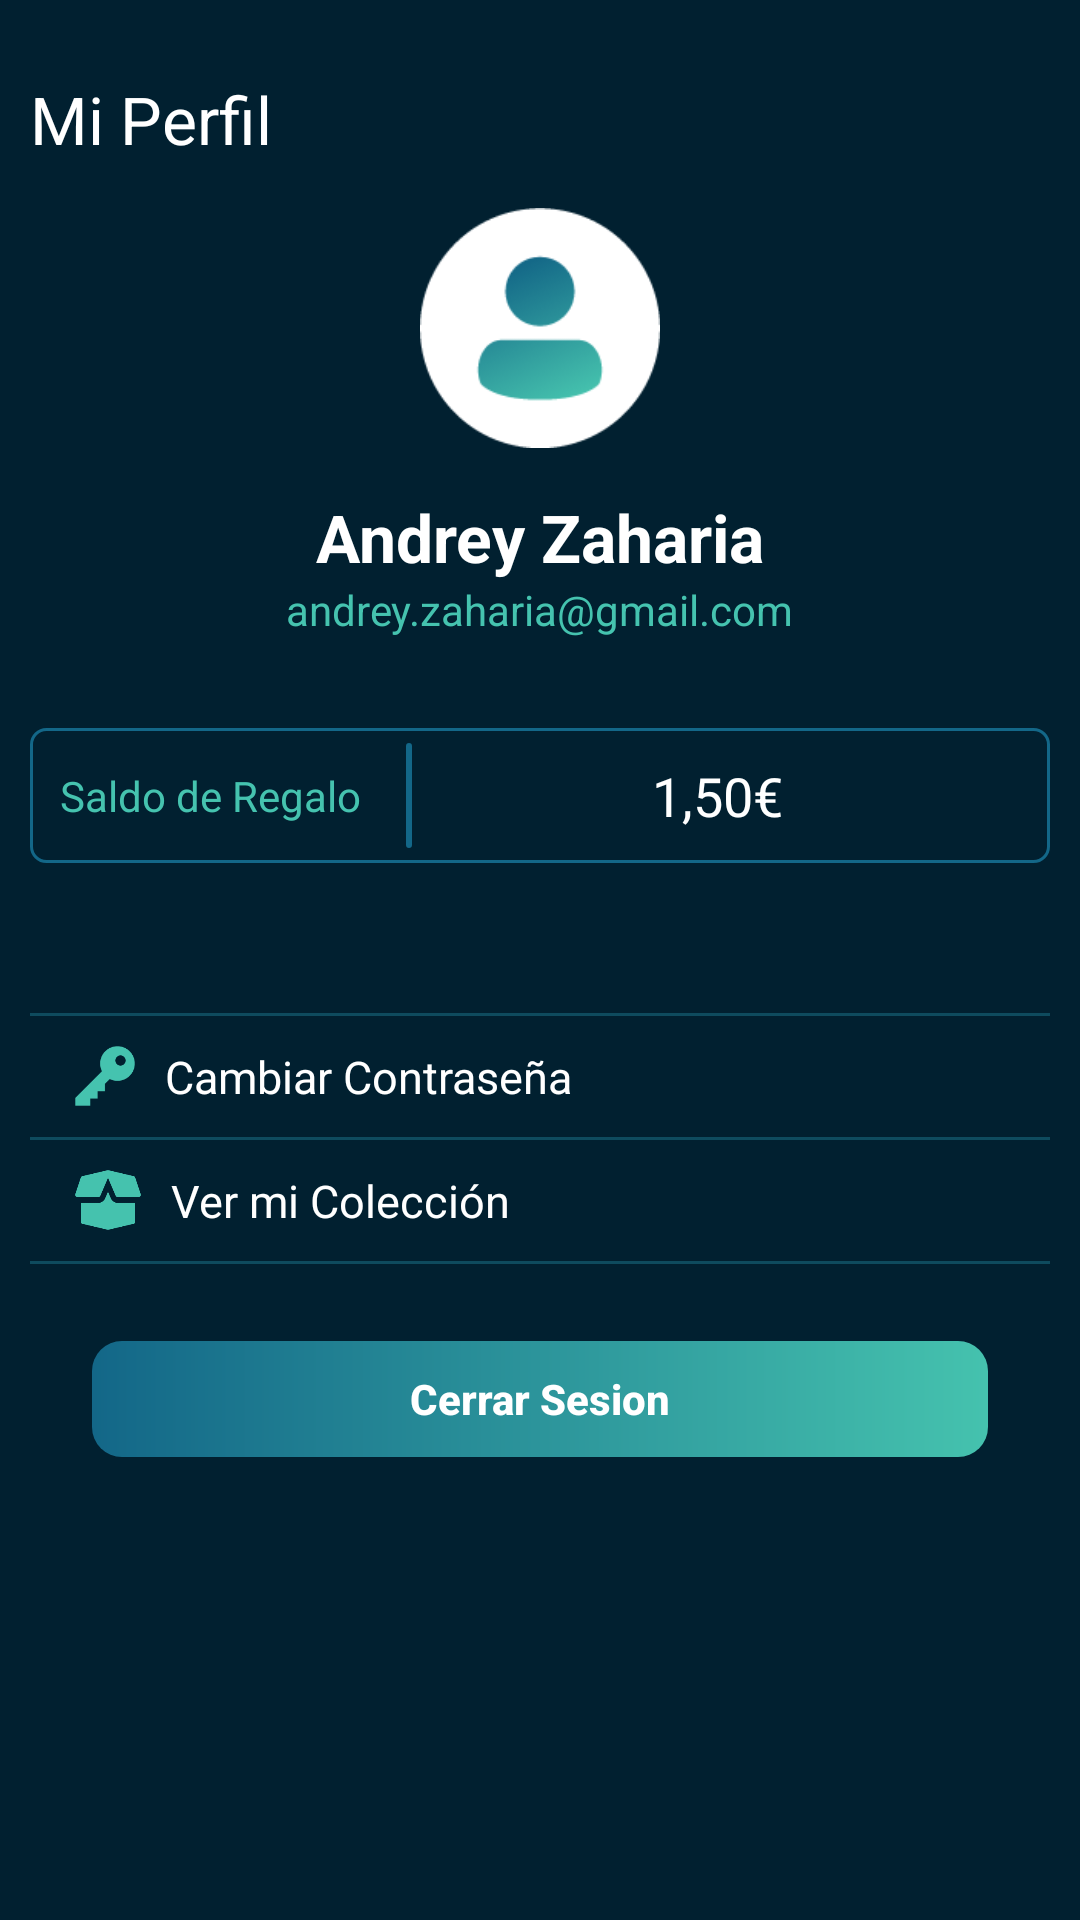

Icons on this 1080×1920 Android screen, each with its box as region(x1, y1, x2, y2):
password: region(75, 1046, 135, 1106)
profile: region(420, 208, 660, 448)
